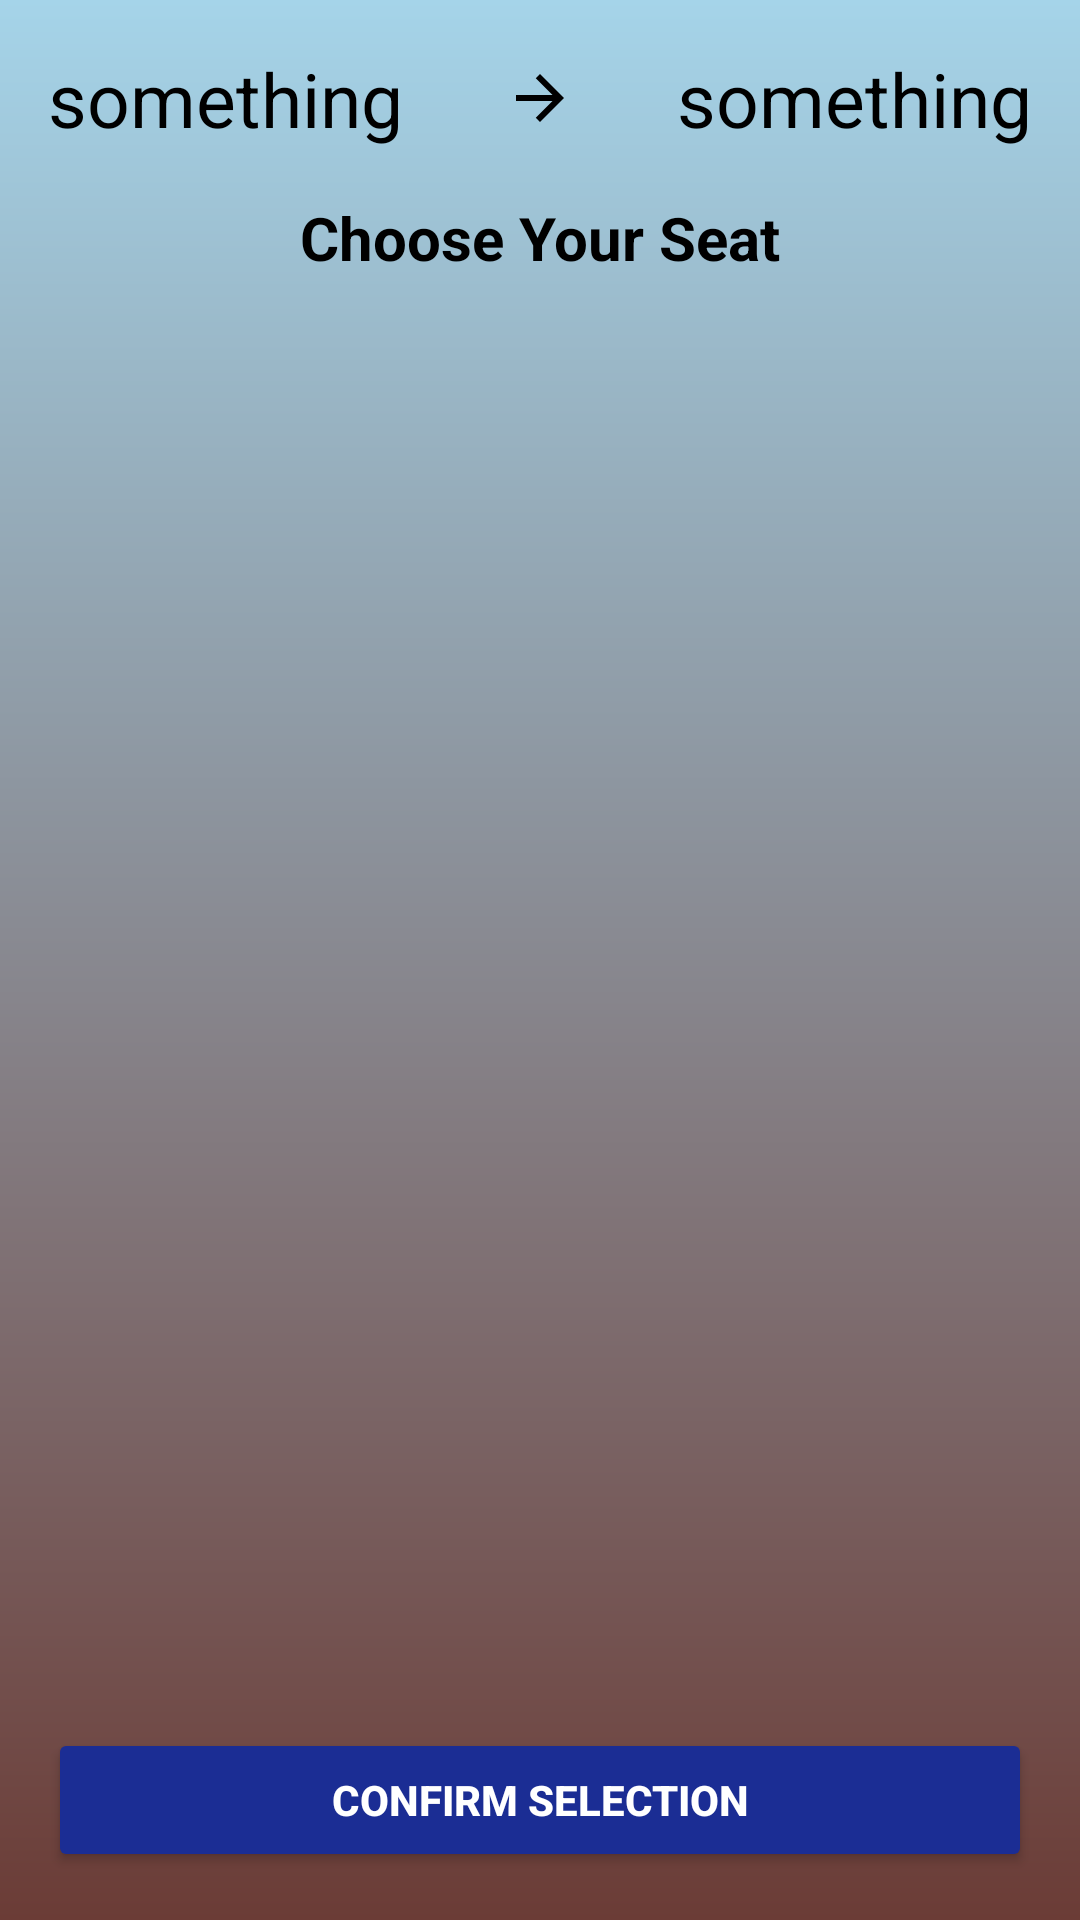

Icons on this 1080x1920 Android screen, each with the point to tap as (x,y):
arrow forward: (540,98)
